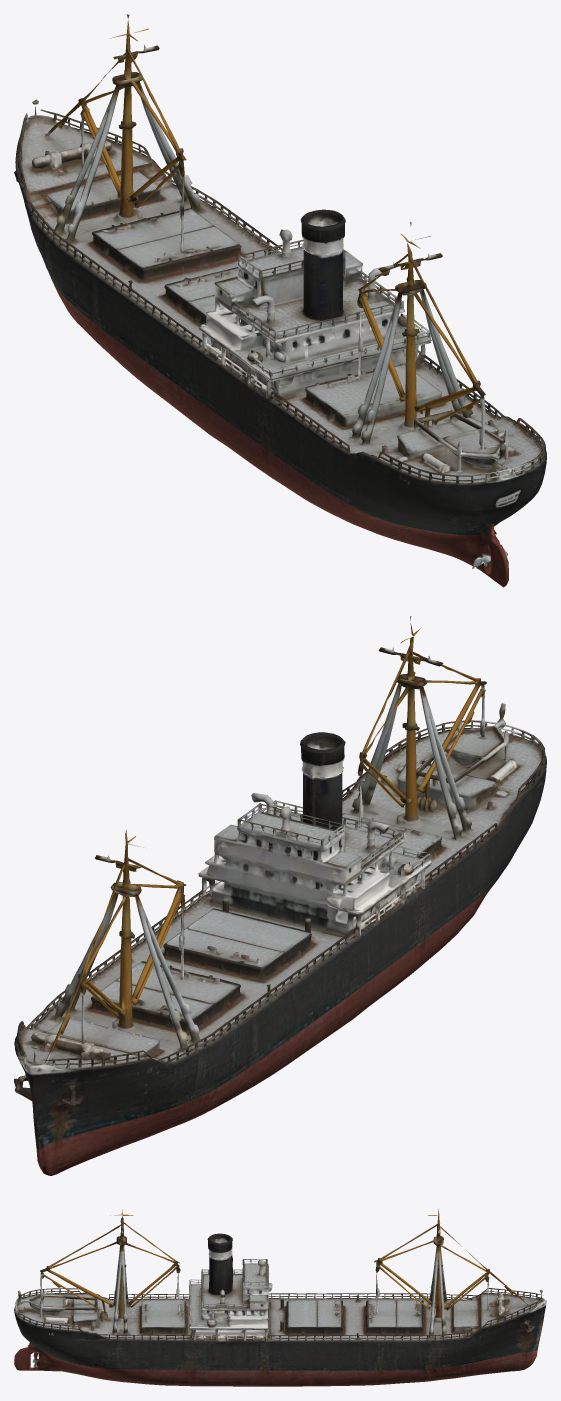
Rendered from prop_ship.glb.
3 renders of one model, top to bottom at view 1: azimuth 30°, elevation 25°; view 2: azimuth 150°, elevation 25°; view 3: azimuth 270°, elevation 25°, orthographic. The views are drawn at different scales.
Visible parts, largest first — view 1: tripo_node_a4cbb0ad-8f8b-416b-a8bd-b5ff8135847c; view 2: tripo_node_a4cbb0ad-8f8b-416b-a8bd-b5ff8135847c; view 3: tripo_node_a4cbb0ad-8f8b-416b-a8bd-b5ff8135847c.
Boxes of the visible parts, x1,y1,x2,y2 form: tripo_node_a4cbb0ad-8f8b-416b-a8bd-b5ff8135847c: [14, 14, 546, 587]; tripo_node_a4cbb0ad-8f8b-416b-a8bd-b5ff8135847c: [14, 616, 546, 1175]; tripo_node_a4cbb0ad-8f8b-416b-a8bd-b5ff8135847c: [14, 1209, 546, 1386].
Bounding box in the file's own units: 0.1955 × 0.3381 × 0.98.
Materials: 1 (1 with a texture image).
